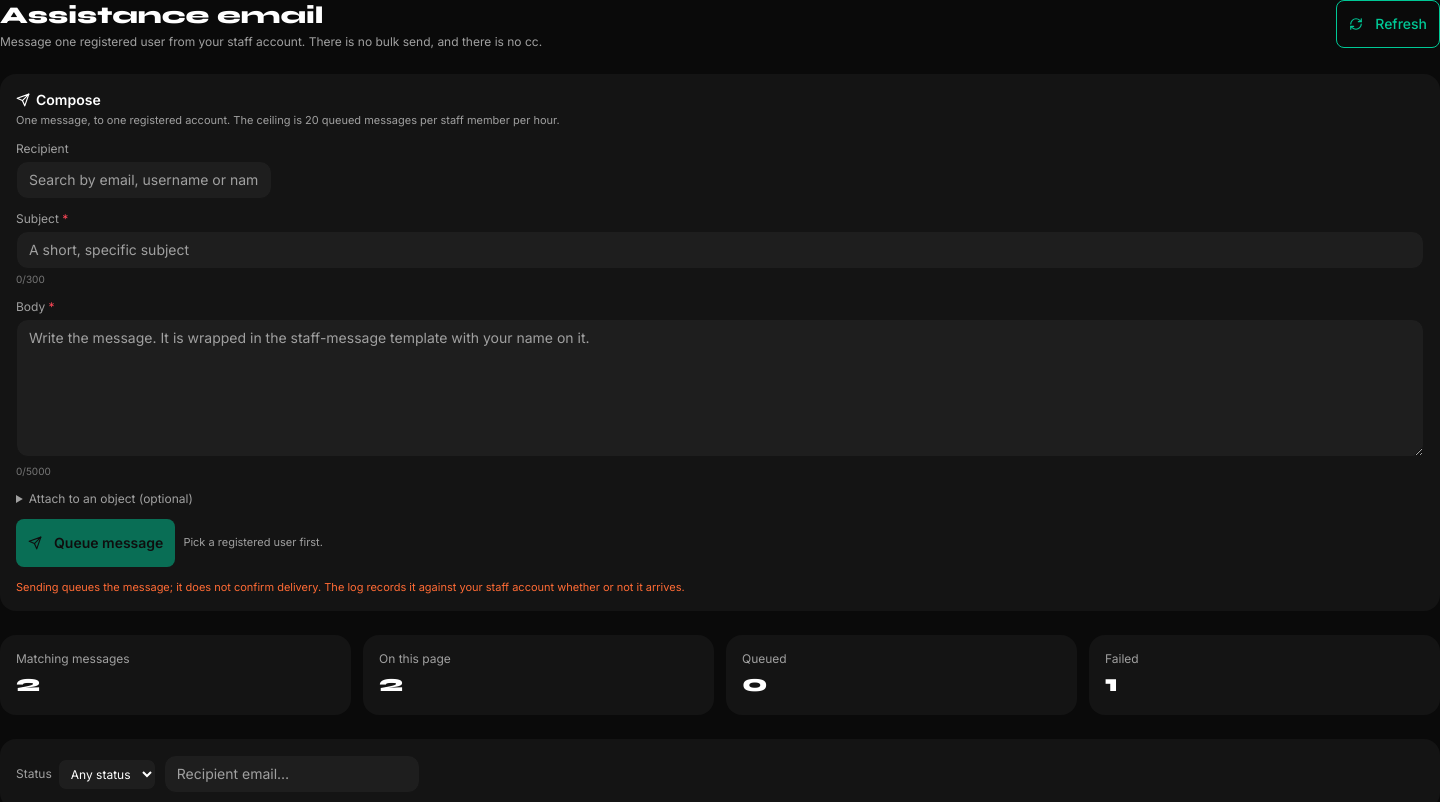
AdminEmail — send › confirms with the server's own "queued" sentence, not "sent"
The image size is (1440, 802).
Expected: the field named "Email subject" is shown, [16,230,1424,268]
Type "ada" into the field named "Search for the recipient" at x=144, y=180, box [16,160,272,198]
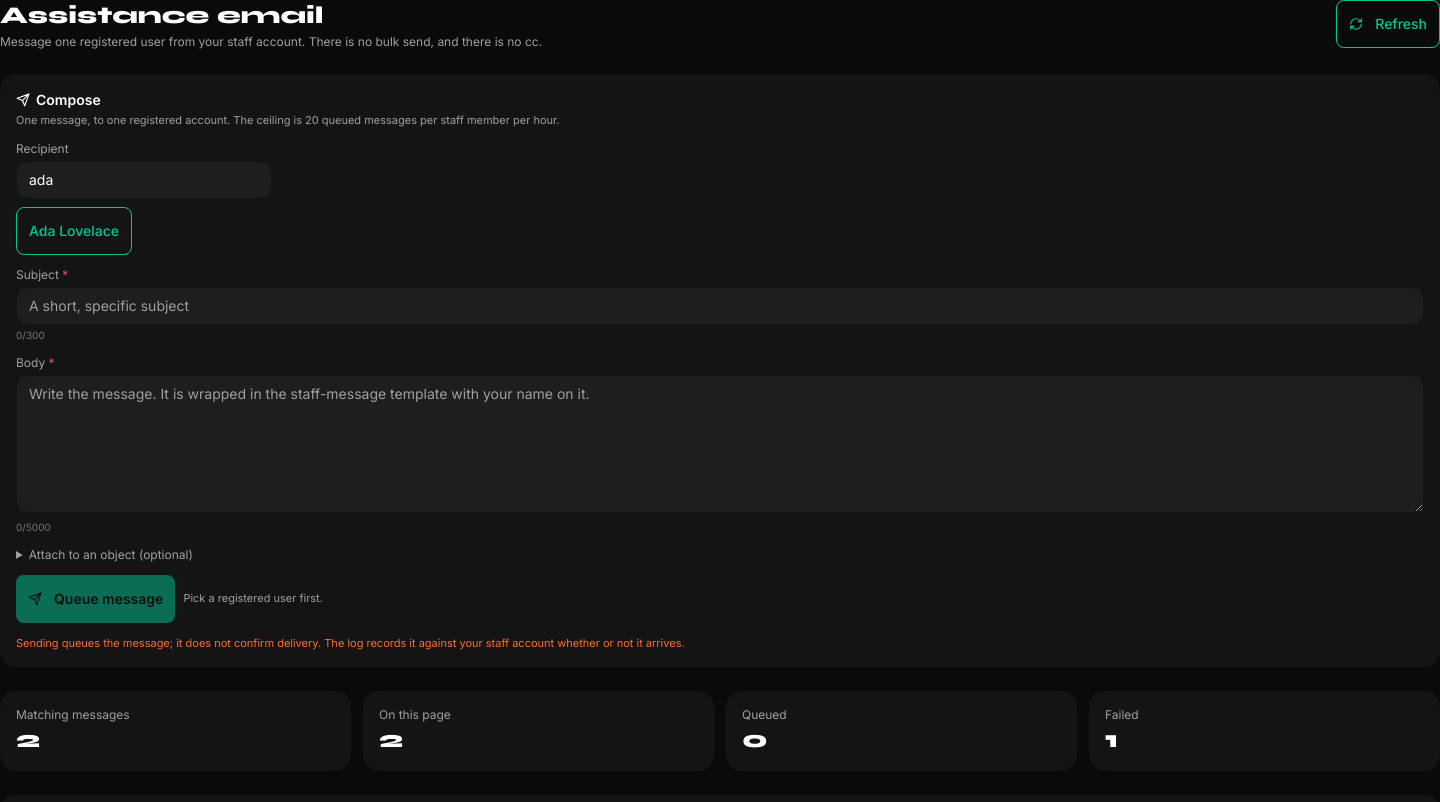
Click the button "Ada Lovelace" at x=74, y=230, box [16,206,132,254]
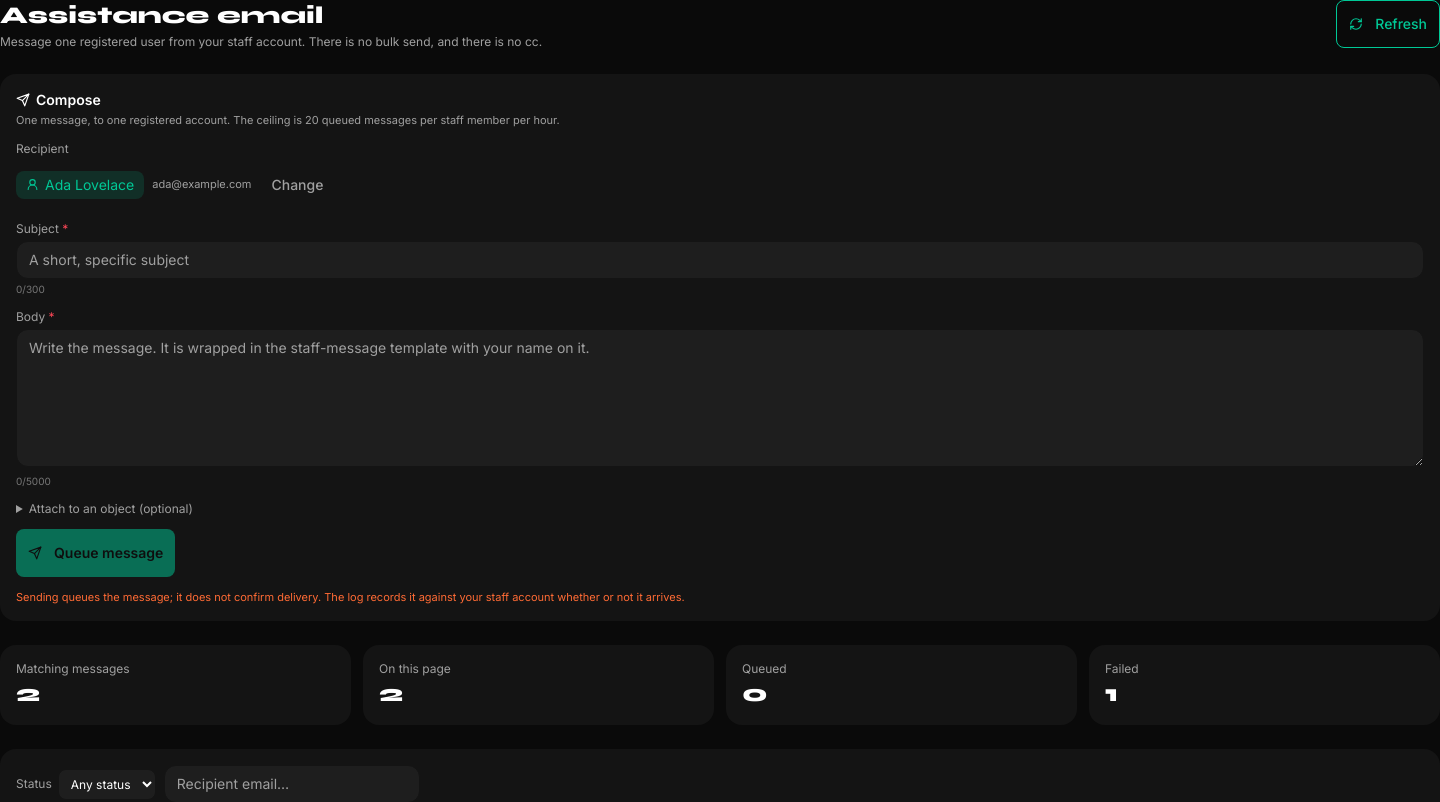
Type "Your order has shipped" into the field named "Email subject" at x=720, y=260, box [16,240,1424,278]
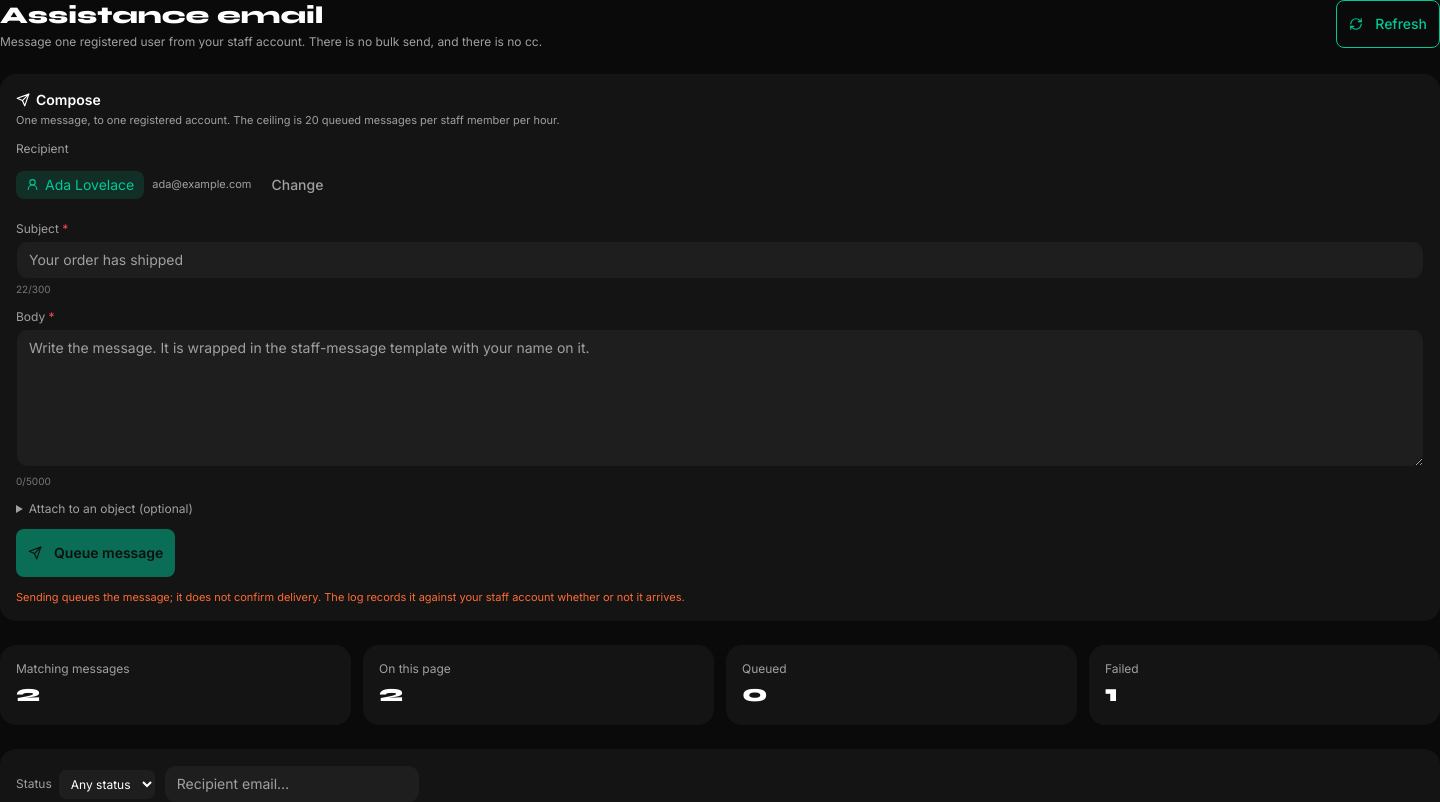
Replace the text in the text box named "Email body" with "It left the warehouse." at x=720, y=398, box [16,328,1424,466]
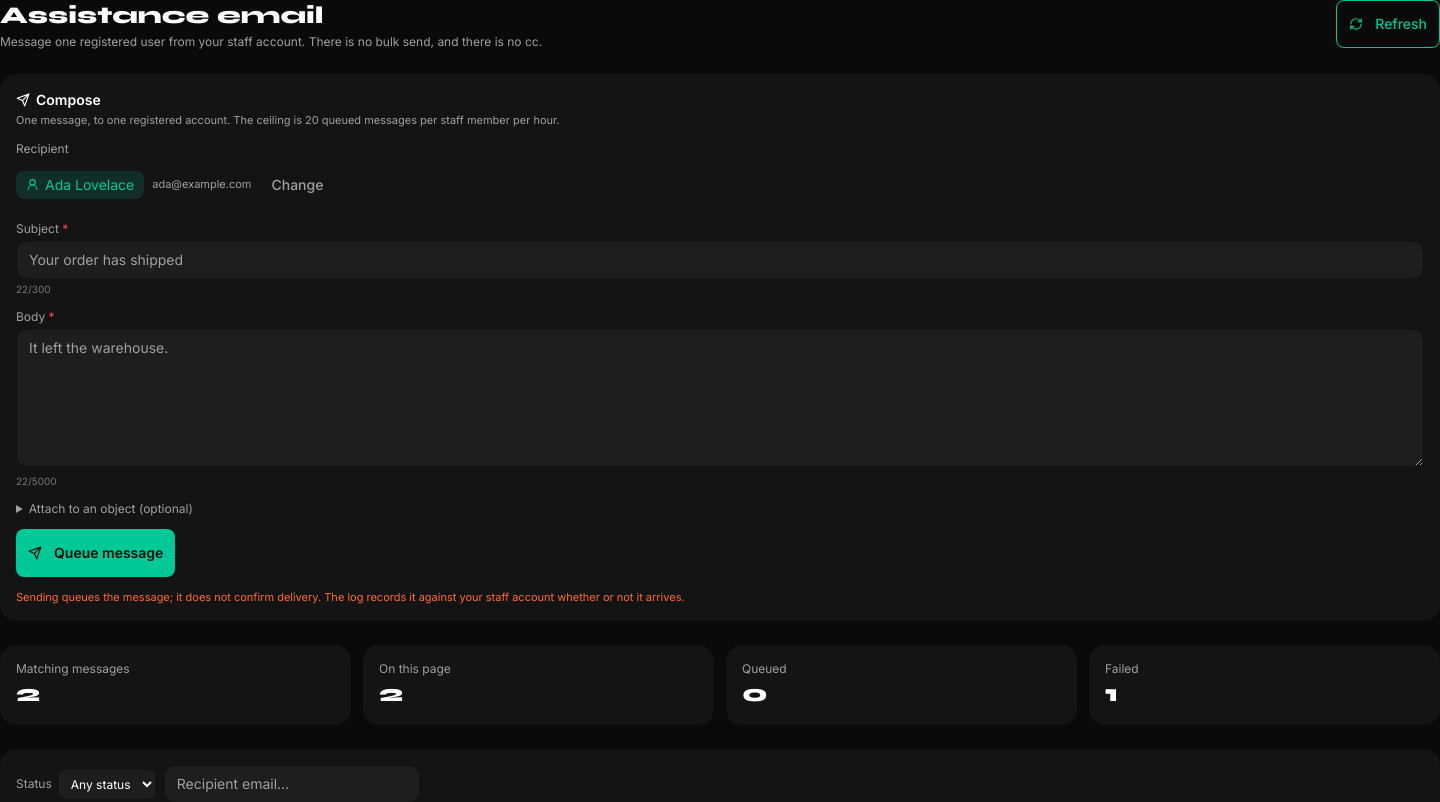
Click the button "Queue message" at x=96, y=552, box [16,528,175,576]
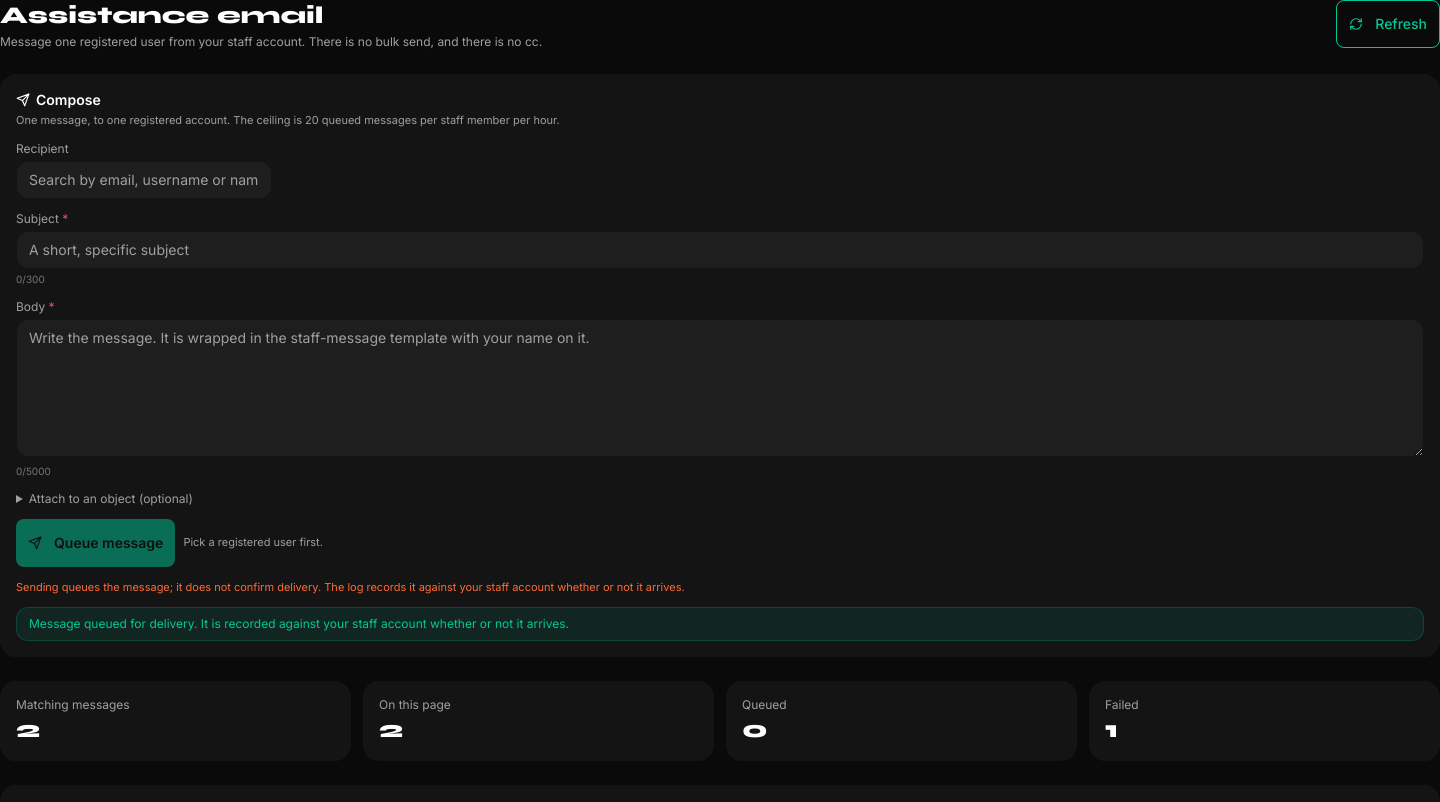
Expected: the text "Message queued for delivery. It is recorded against your staff account" is shown, [29,616,569,631]
